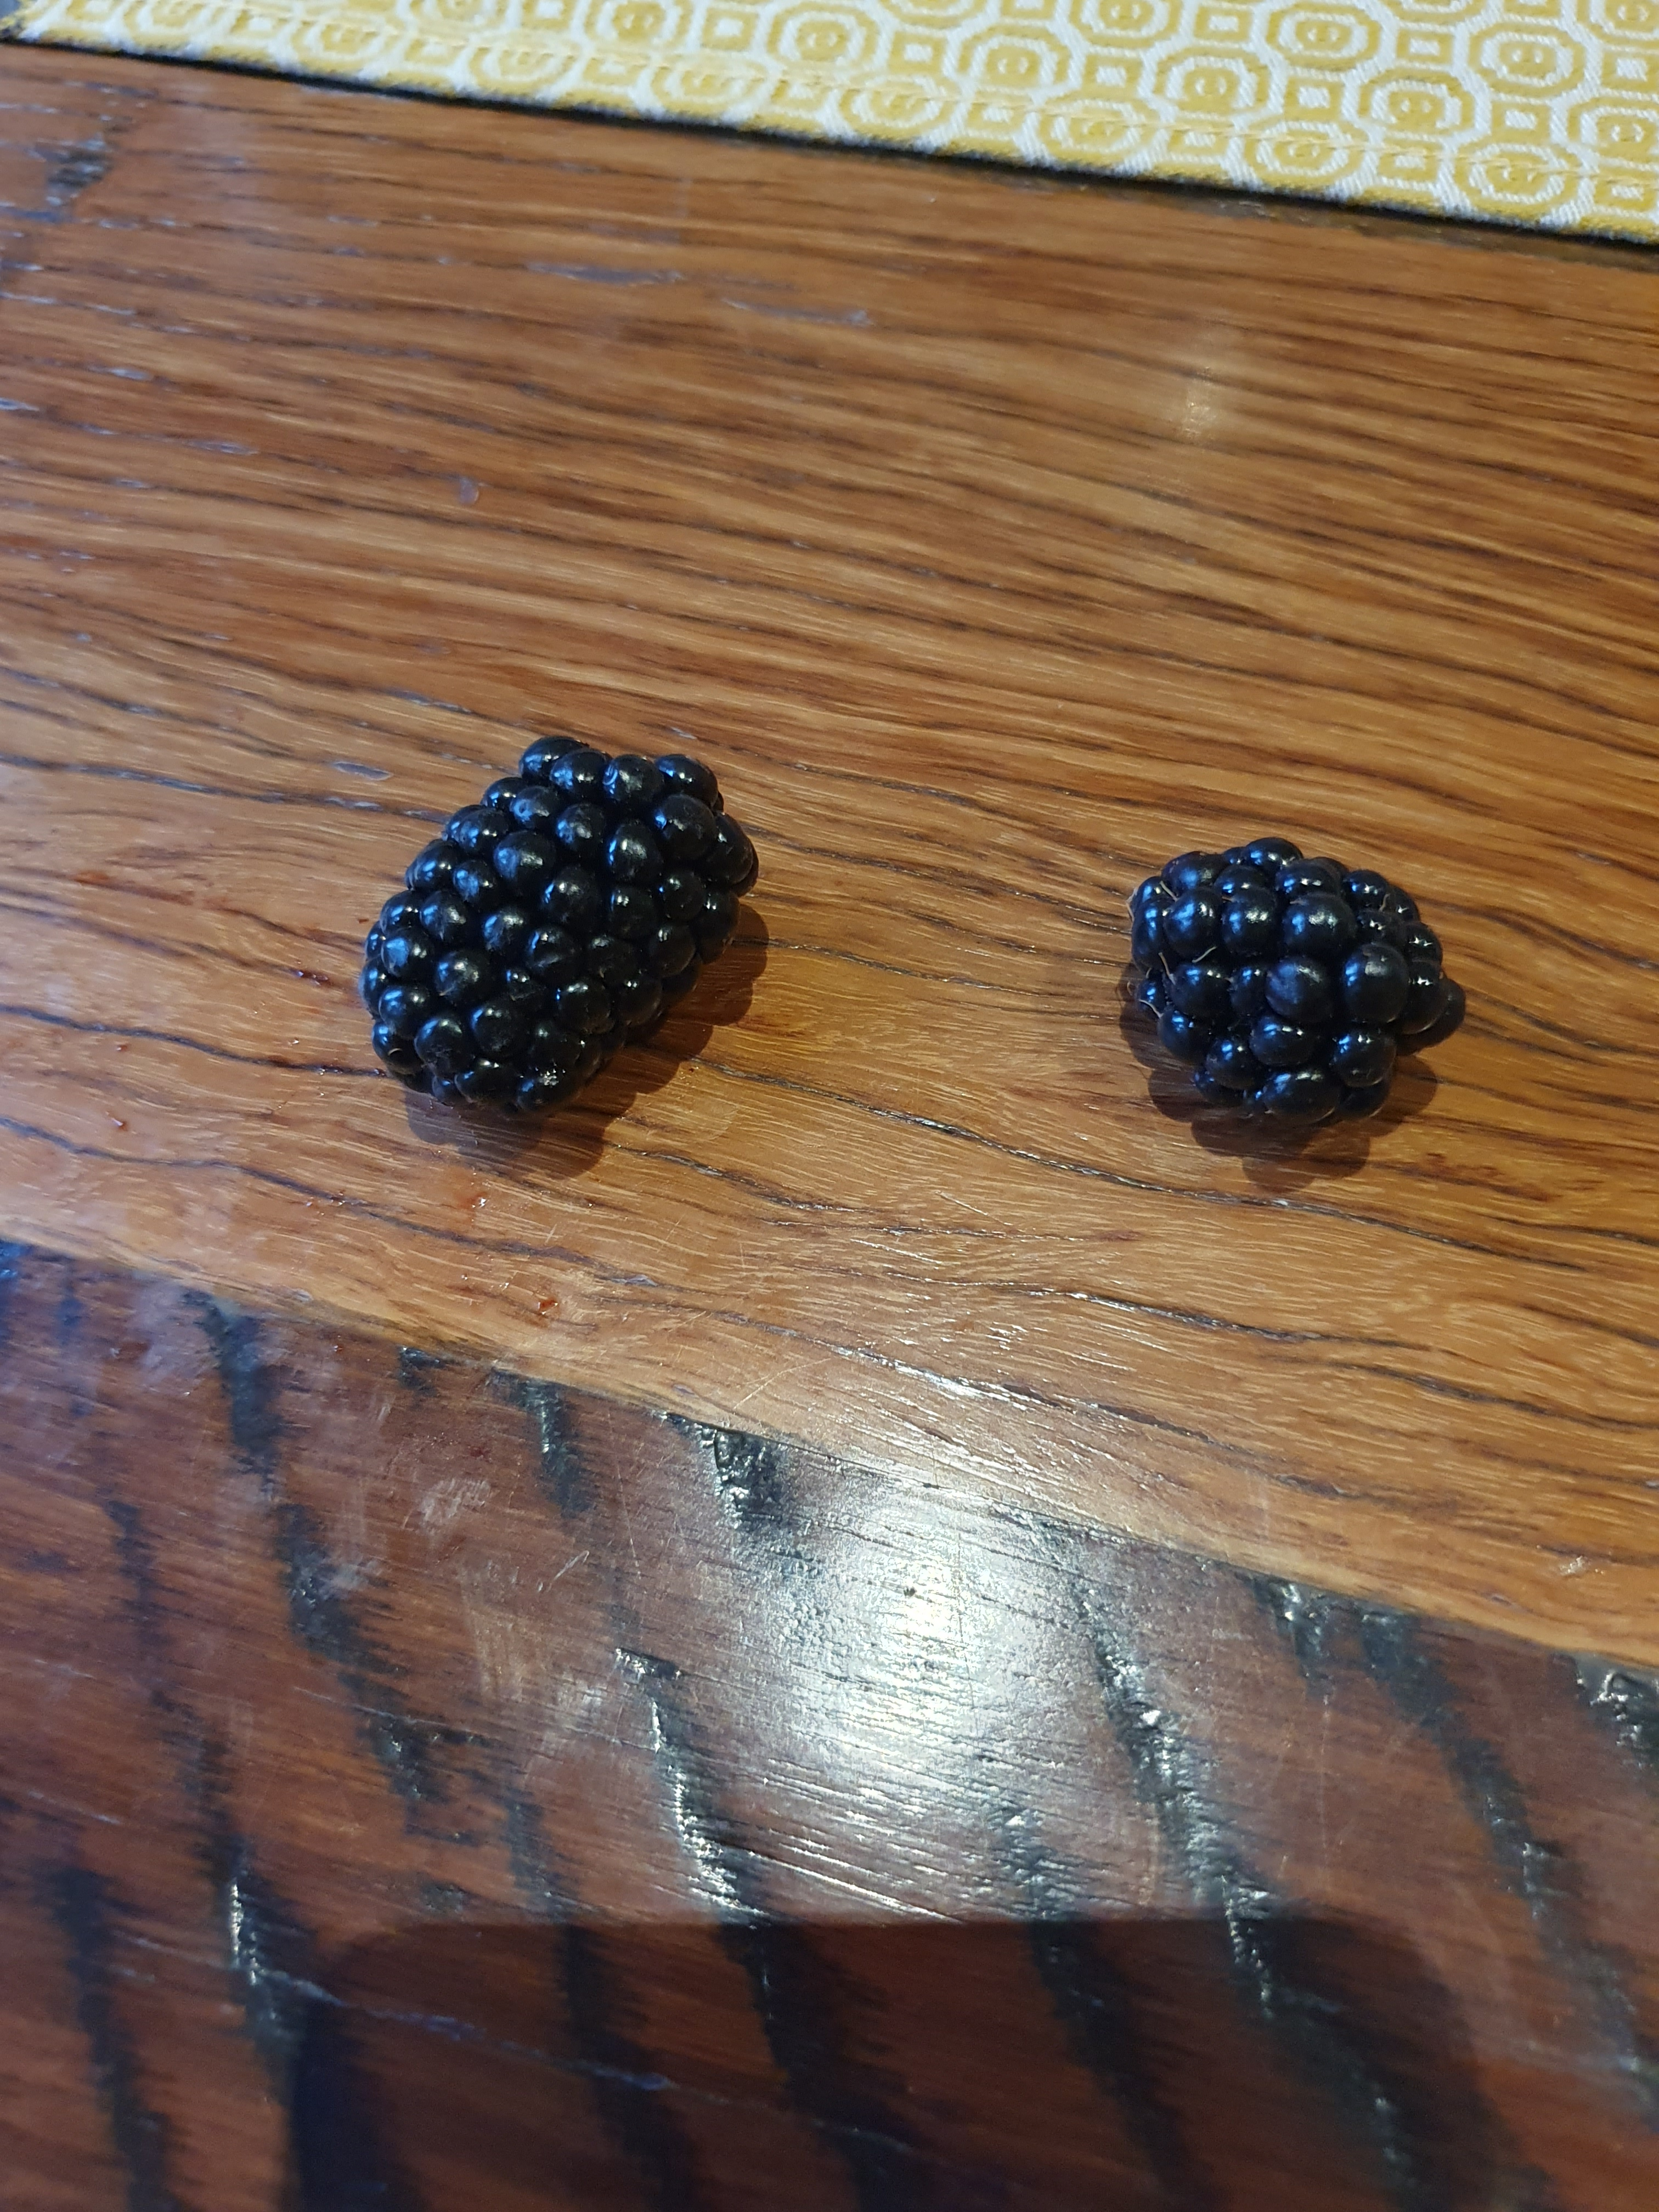blackberry: (335, 686, 772, 1132), (1093, 827, 1485, 1165)
